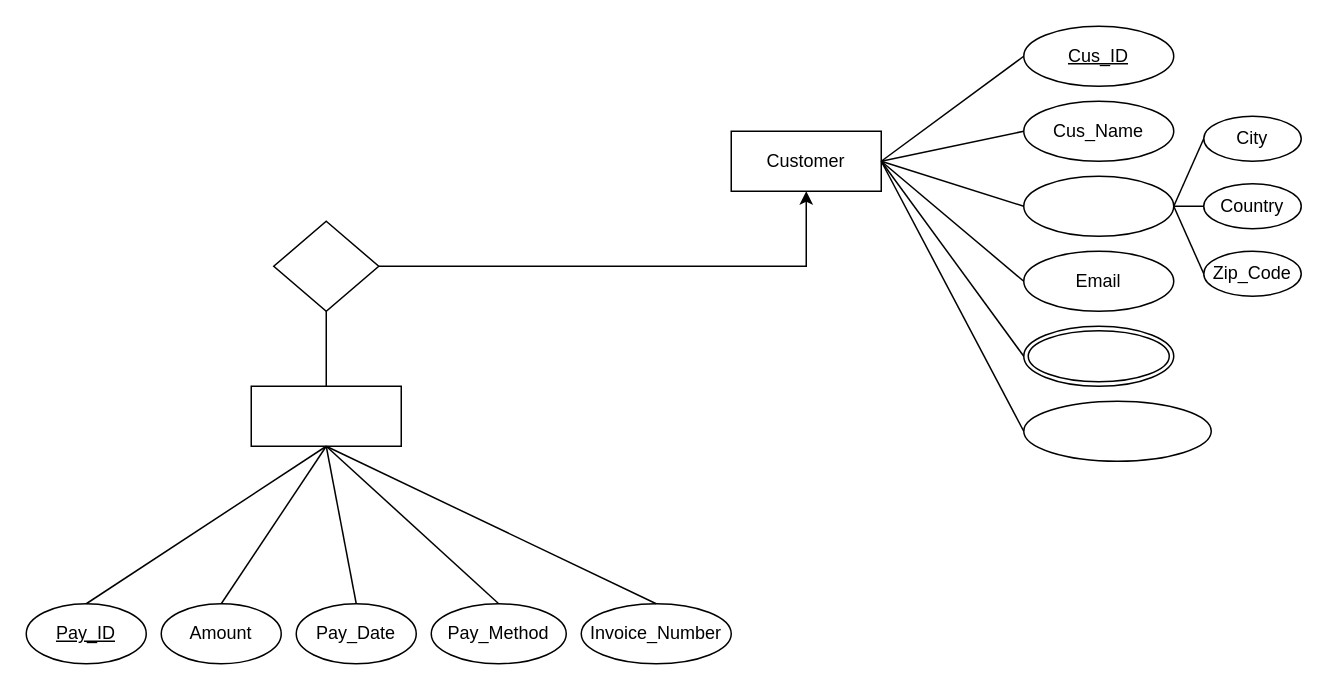
This 1328x690 diagram has some shape labels left out. Each missing label, with the centre of its shape:
Address: pixel 1098 205
Makes: pixel 325 265
Membership_Level: pixel 1116 430
Payment: pixel 325 415
Phone_No: pixel 1098 355
